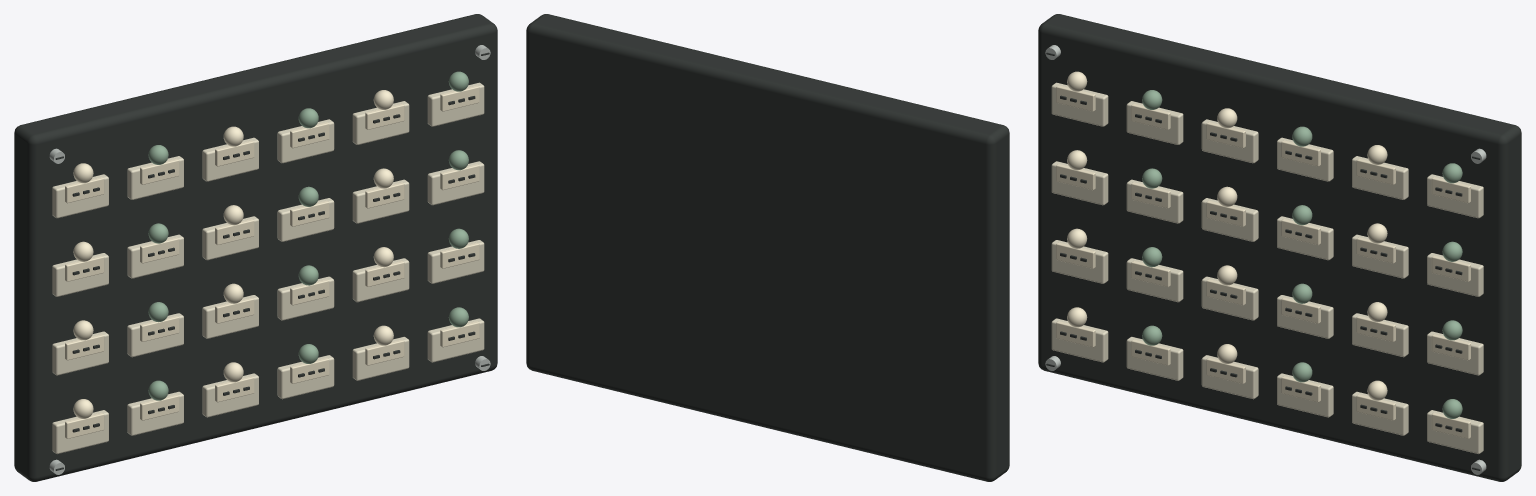
File: abandoned-telephone-exchange-call-indicator-panel-0e60b24d__31982.glb
The picture shows the model from 3 angles, left to right: view 1: azimuth 30°, elevation 25°; view 2: azimuth 150°, elevation 25°; view 3: azimuth 330°, elevation 25°; orthographic projection.
Visible parts, largest first — view 1: call-indicator-panel; view 2: call-indicator-panel; view 3: call-indicator-panel.
Boxes of the visible parts, bbox=[...] form: call-indicator-panel: bbox=[14, 14, 497, 481]; call-indicator-panel: bbox=[526, 14, 1009, 481]; call-indicator-panel: bbox=[1038, 14, 1521, 481].
Bounding box in the file's own units: 0.75 × 0.53 × 0.0835.
